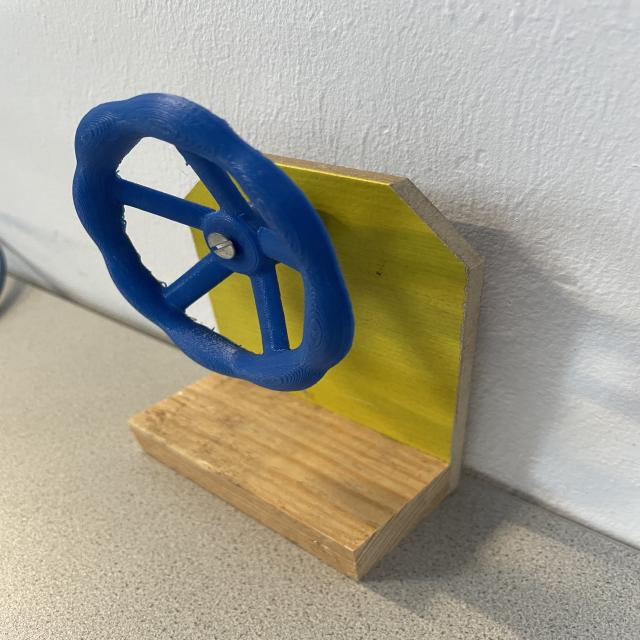Wheel Handle Valve Threaded: (70, 91, 356, 392)
